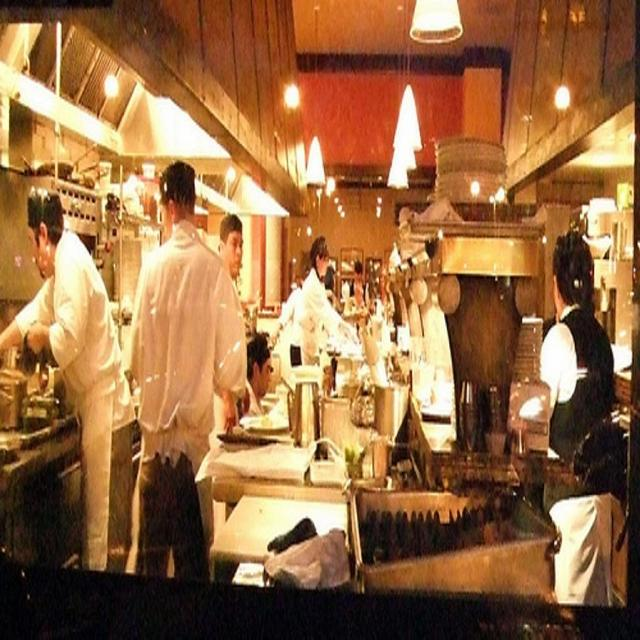nomask: (27, 220, 47, 277), (224, 233, 242, 273), (320, 252, 328, 274)
